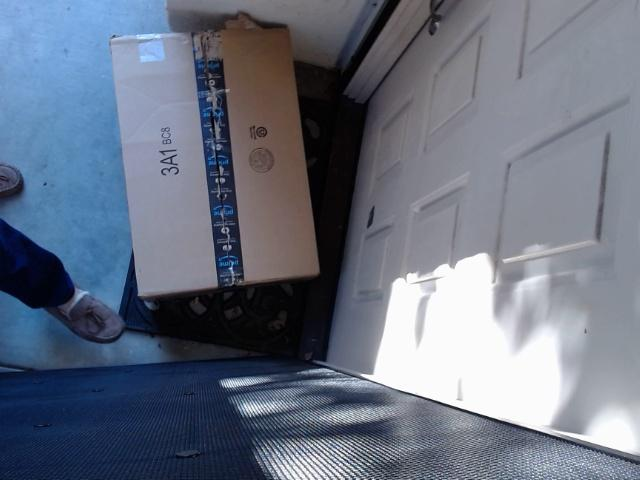box: (110, 23, 322, 309)
